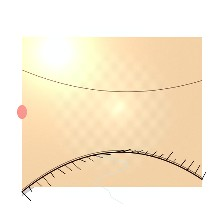foreign_body_visible: (102, 124, 120, 138)
